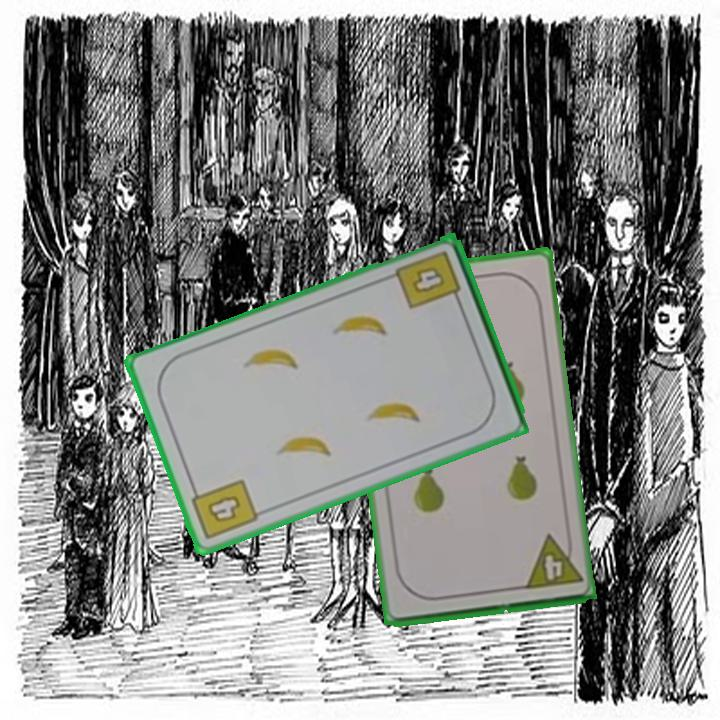4b: (187, 476, 261, 543), (392, 247, 464, 313)
4p: (520, 530, 585, 592)
